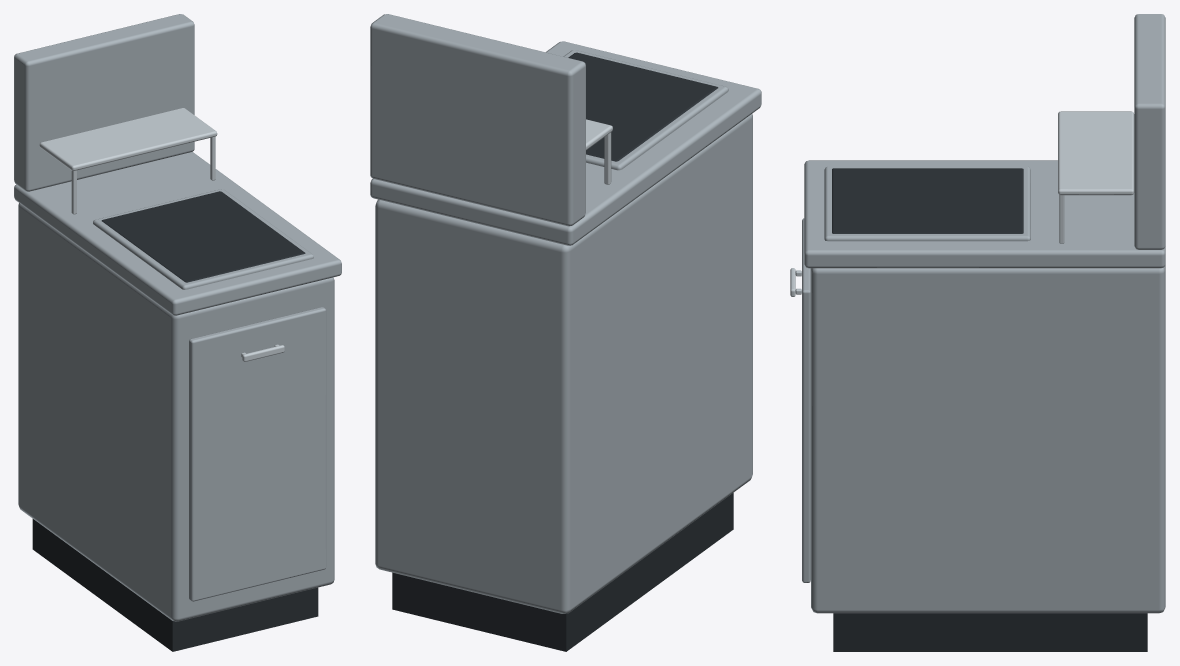
The model's file is SM_FryStation.glb.
3 renders of one model, left to right at view 1: azimuth 30°, elevation 25°; view 2: azimuth 150°, elevation 25°; view 3: azimuth 270°, elevation 25°, orthographic. The views are drawn at different scales.
Parts seen in each view (by area): view 1: SM_FryStation; view 2: SM_FryStation; view 3: SM_FryStation.
Part boxes in pixels (left/top/right/bottom): SM_FryStation: left=14, top=14, right=341, bottom=651; SM_FryStation: left=370, top=14, right=761, bottom=651; SM_FryStation: left=790, top=14, right=1165, bottom=651.
Size of the model in its own units: 0.49 by 1.36 by 0.836.
3 materials, 3 textured.
